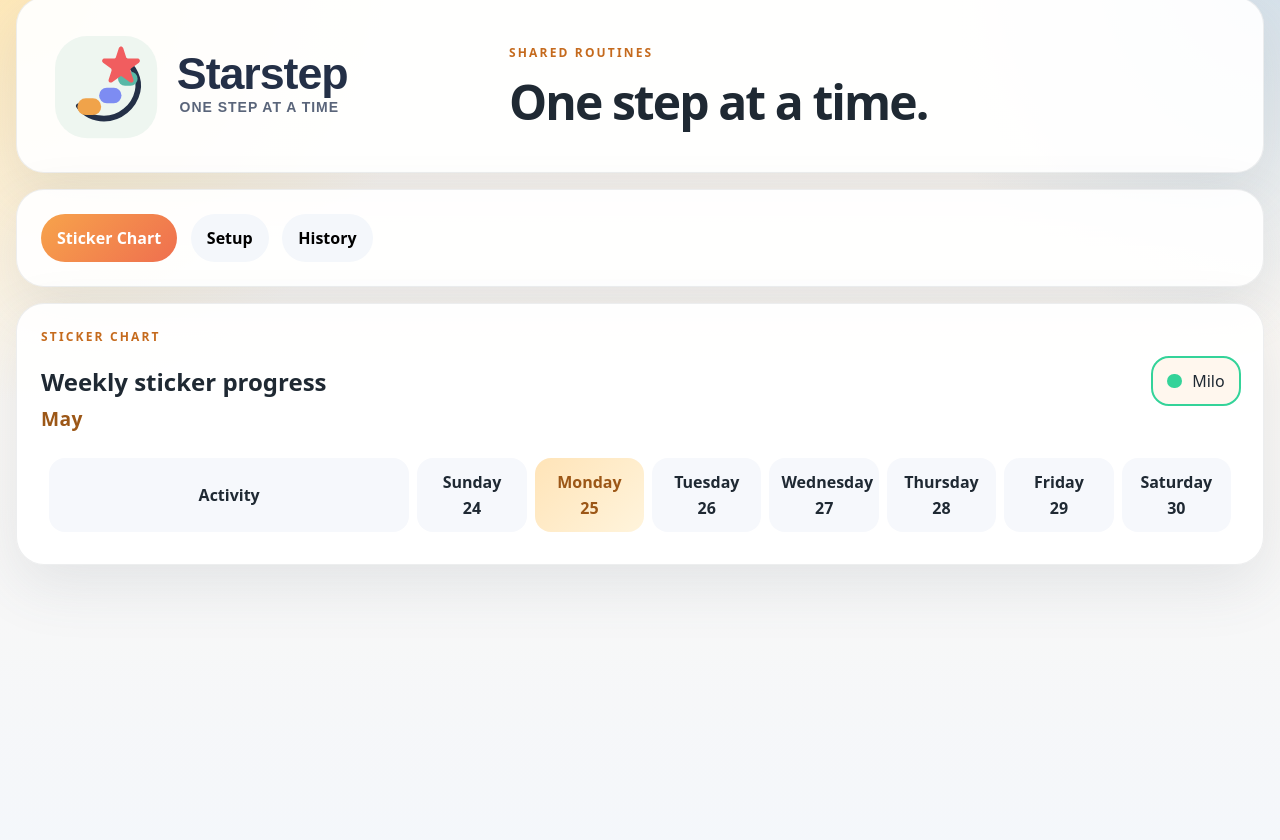
Test: App › shows pending and unavailable instructional-image states in activity authoring
The width and height of the screenshot is (1280, 840).
Click the button "Setup" at (230, 238), box [191,214,269,262]
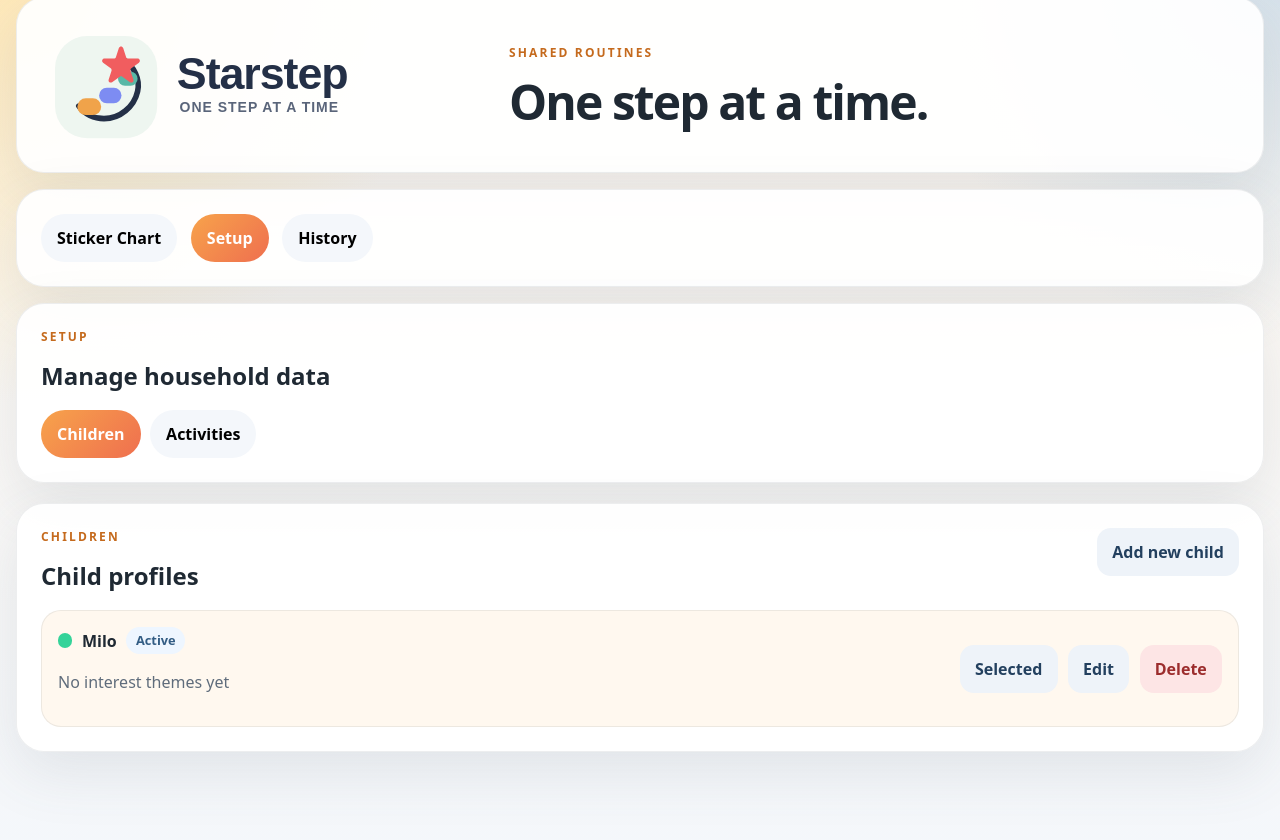
Click the button "Activities" at (203, 434), box [150,410,256,458]
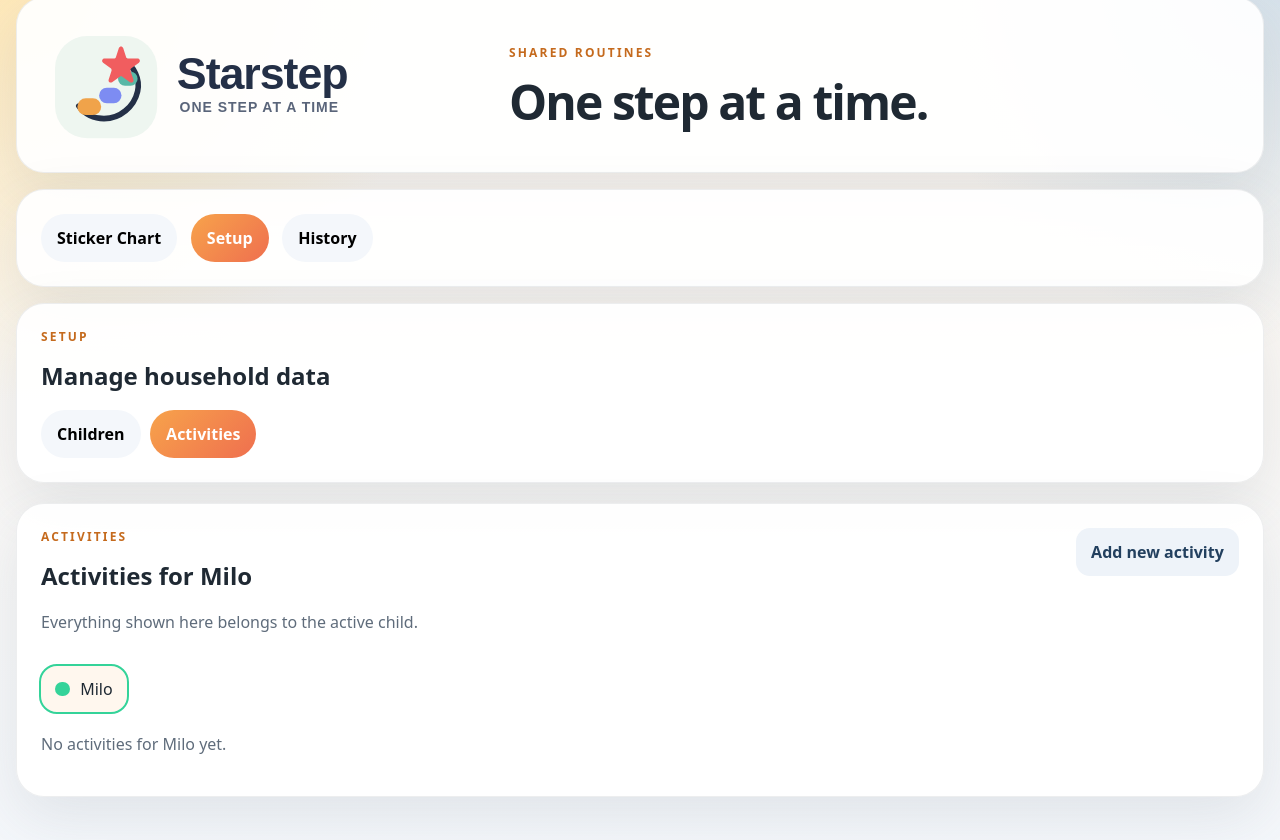
Click the button "Add new activity" at (1157, 552), box [1076,528,1239,576]
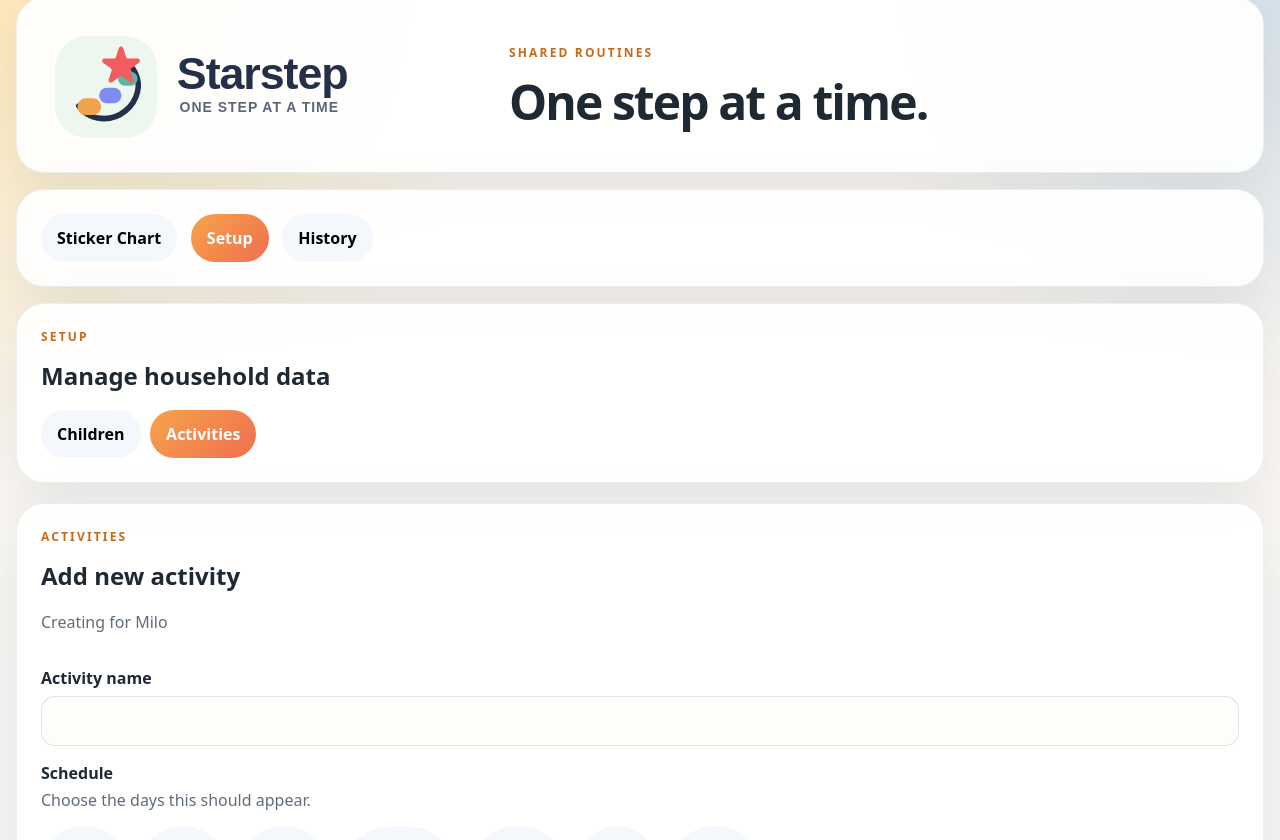
Type "Carry napkins" into the field labelled "Activity name" at (640, 721), box [41,696,1239,746]
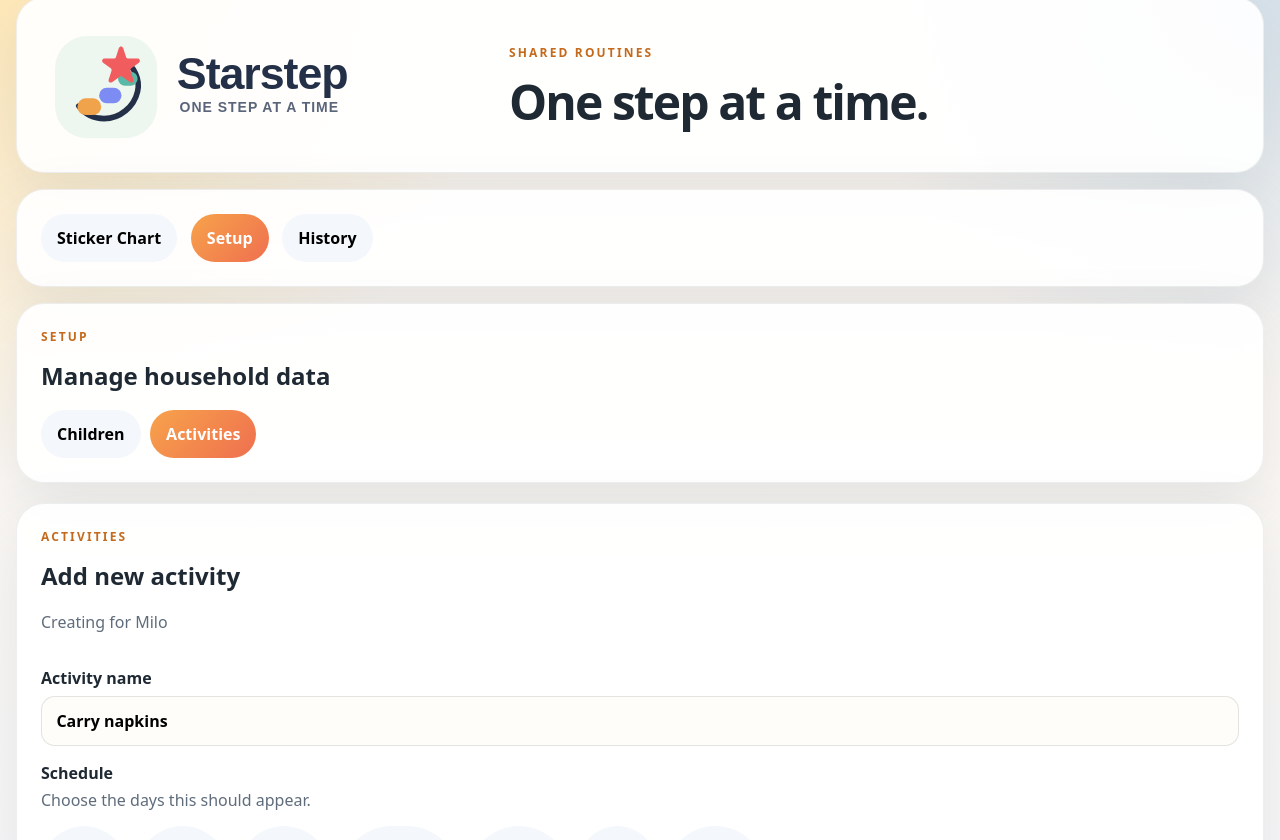
Leave the field labelled "Activity name", box [41,696,1239,746]
(page scrolled)
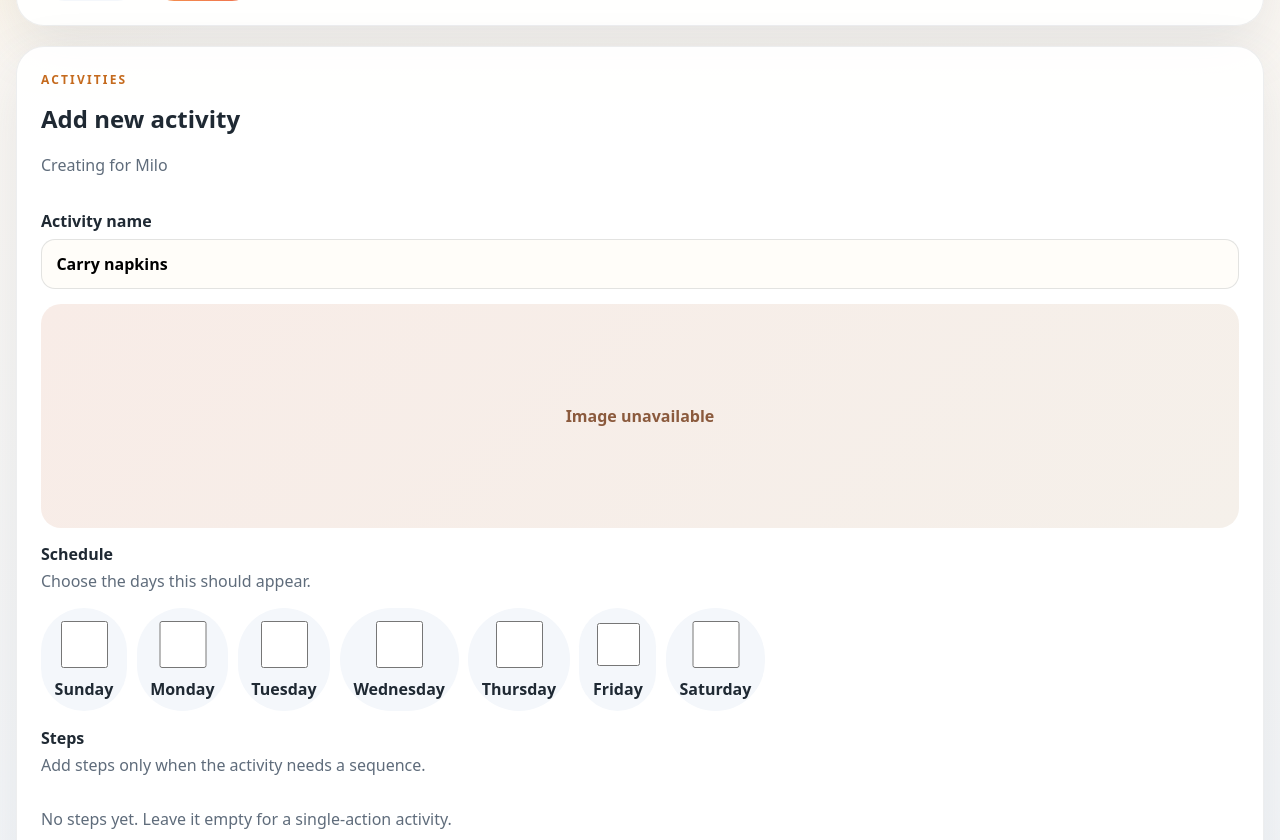
Check: the text "Image unavailable" is shown, box [566,404,714,428]
